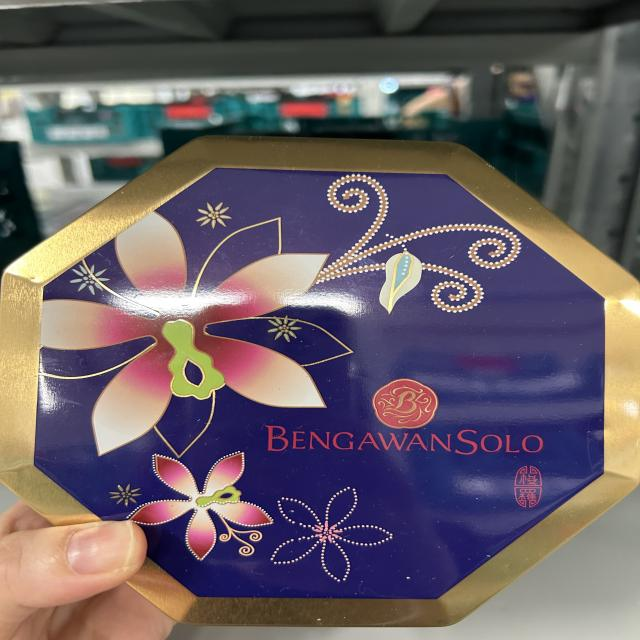object_name: (3, 145, 640, 640)
